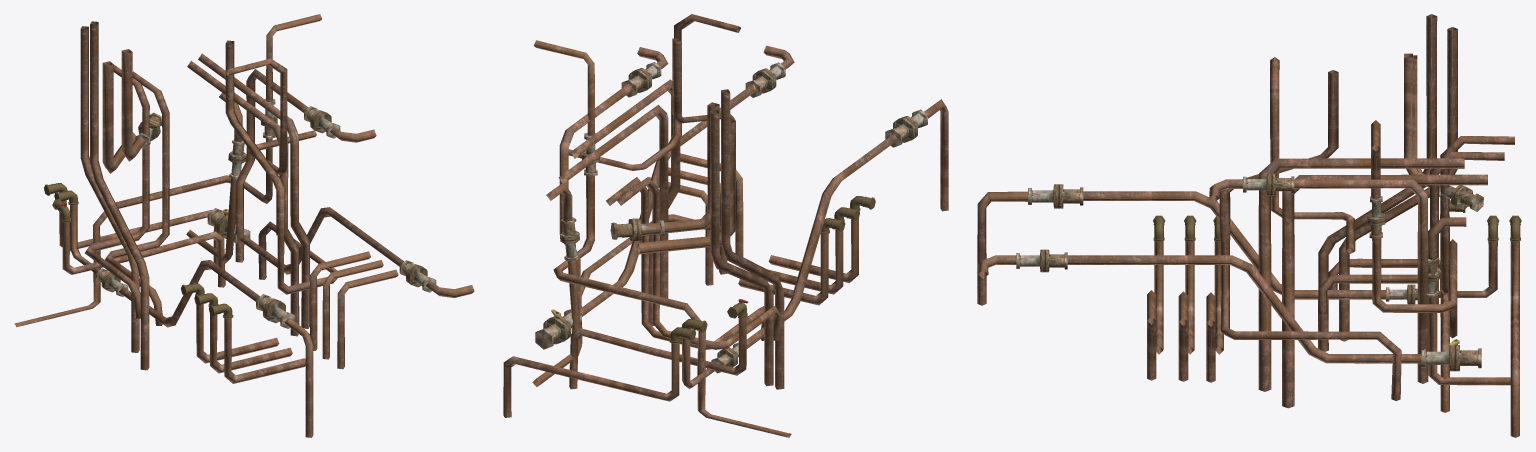
File: LethalPipes.fbx
The picture shows the model from 3 angles, left to right: view 1: azimuth 30°, elevation 25°; view 2: azimuth 150°, elevation 25°; view 3: azimuth 270°, elevation 25°; orthographic projection. The views are drawn at different scales.
Parts seen in each view (by area): view 1: Pipe_001__1_, Pipe__1__1, Pipe_001__2_, Pipe__2_, Pipe_005__1__1, Pipe_001__3_, Pipe_005__1__2, Pipe__1_, Pipe_005__1_, Pipe_005__2__1, Pipe_002__1__1, Pipe_002__2__2 (+25 smaller); view 2: Pipe_001__1_, Pipe_001__2_, Pipe_005__2__1, Pipe__2_, Pipe_001__3__2, Pipe__1__1, Pipe_005__1__2, Pipe_001__3__1, Pipe_005__1__1, Pipe_002__1__1, Pipe_005__1_, Pipe__1_ (+26 smaller); view 3: Pipe__1__1, Pipe__2_, Pipe_001__3__1, Pipe__1_, Pipe_001__1_, Pipe_005__2_, Pipe_001__3__2, Pipe_001__2_, Pipe_005__1__2, Pipe_005__1_, Pipe_005__2__1, Pipe_001__3_ (+24 smaller).
Boxes of the visible parts, left/top/right/bottom form: Pipe_001__1_: left=90, top=21, right=149, bottom=370; Pipe__1__1: left=198, top=53, right=309, bottom=328; Pipe_001__2_: left=80, top=26, right=139, bottom=352; Pipe__2_: left=187, top=61, right=299, bottom=336; Pipe_005__1__1: left=105, top=71, right=169, bottom=284; Pipe_001__3_: left=225, top=40, right=284, bottom=235; Pipe_005__1__2: left=85, top=64, right=149, bottom=278; Pipe__1_: left=235, top=69, right=308, bottom=262; Pipe_005__1_: left=225, top=58, right=316, bottom=175; Pipe_005__2__1: left=93, top=138, right=272, bottom=269; Pipe_002__1__1: left=102, top=61, right=136, bottom=173; Pipe_002__2__2: left=121, top=49, right=146, bottom=161; Pipe_001__1_: left=721, top=89, right=784, bottom=389; Pipe_001__2_: left=710, top=110, right=773, bottom=386; Pipe_005__2__1: left=553, top=175, right=705, bottom=374; Pipe__2_: left=558, top=104, right=668, bottom=326; Pipe_001__3__2: left=738, top=134, right=897, bottom=354; Pipe__1__1: left=570, top=79, right=680, bottom=298; Pipe_005__1__2: left=617, top=177, right=767, bottom=349; Pipe_001__3__1: left=580, top=84, right=757, bottom=316; Pipe_005__1__1: left=606, top=177, right=755, bottom=349; Pipe_002__1__1: left=637, top=119, right=735, bottom=254; Pipe_005__1_: left=568, top=14, right=740, bottom=170; Pipe__1_: left=559, top=83, right=633, bottom=333; Pipe__1__1: left=1258, top=158, right=1464, bottom=391; Pipe__2_: left=1282, top=174, right=1487, bottom=408; Pipe_001__3__1: left=1067, top=255, right=1421, bottom=363; Pipe__1_: left=1294, top=179, right=1428, bottom=383; Pipe_001__1_: left=1318, top=14, right=1437, bottom=351; Pipe_005__2_: left=1220, top=229, right=1401, bottom=400; Pipe_001__3__2: left=1083, top=191, right=1398, bottom=299; Pipe_001__2_: left=1339, top=27, right=1457, bottom=341; Pipe_005__1__2: left=1362, top=136, right=1514, bottom=295; Pipe_005__1_: left=1270, top=57, right=1355, bottom=253; Pipe_005__2__1: left=1372, top=238, right=1457, bottom=312; Pipe_001__3_: left=1219, top=70, right=1338, bottom=242.
Size of the model in its own units: 678 by 748 by 1104.
